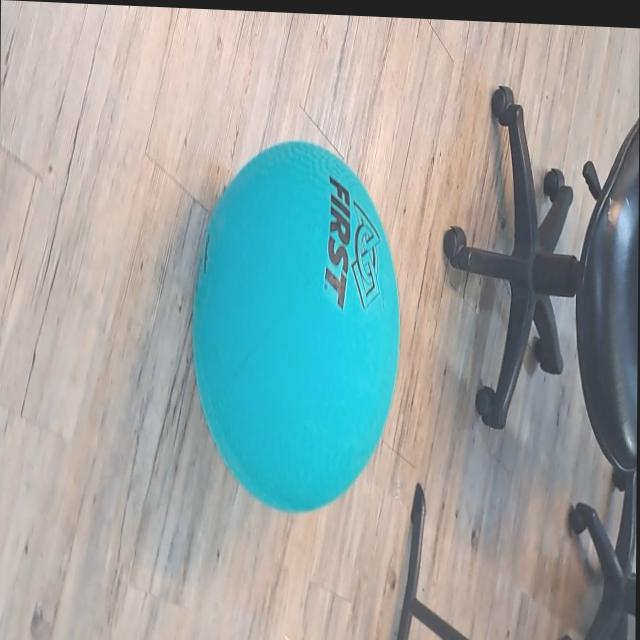ALGAE: (188, 133, 403, 519)
